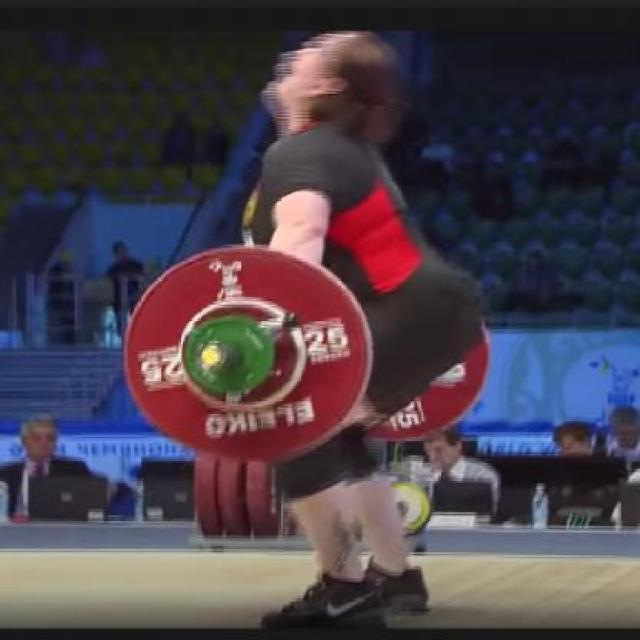barbell: (110, 233, 390, 475)
